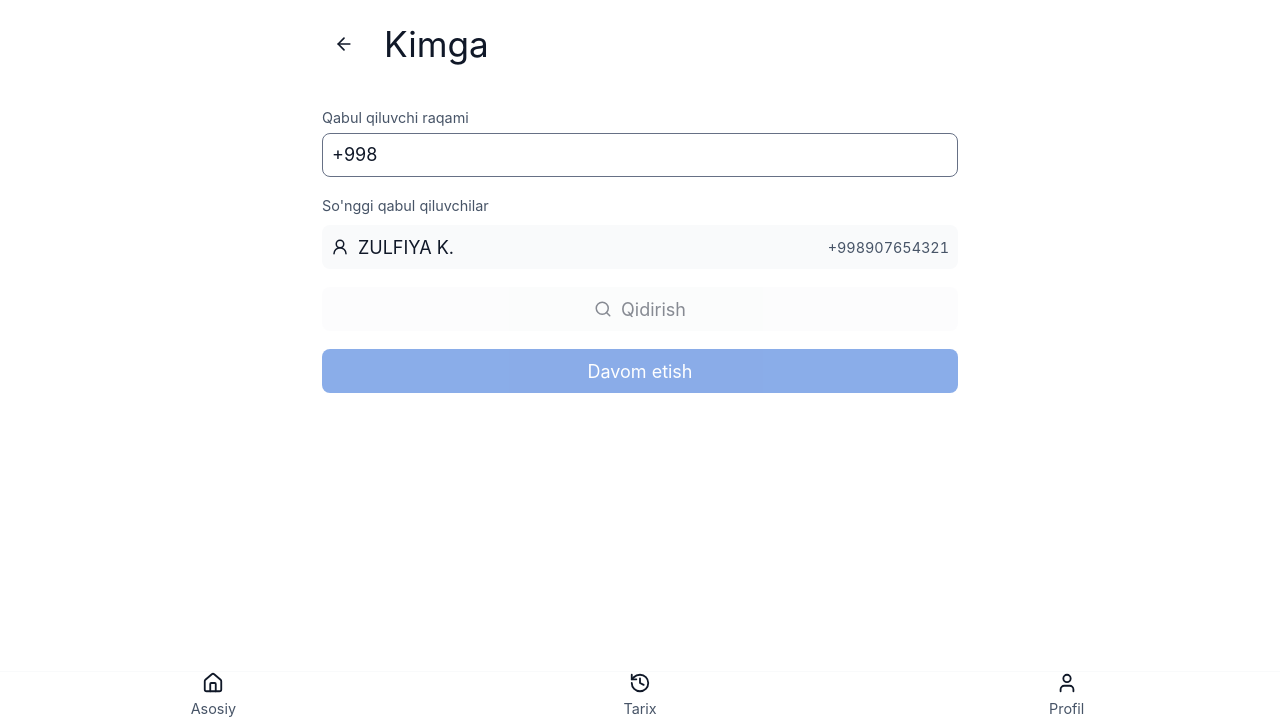
Test: step 1 — the quick pick › still looks the person up, rather than trusting a stored number
Click the button "ZULFIYA K. +998907654321".
click(406, 247)  # box [322,225,958,269]
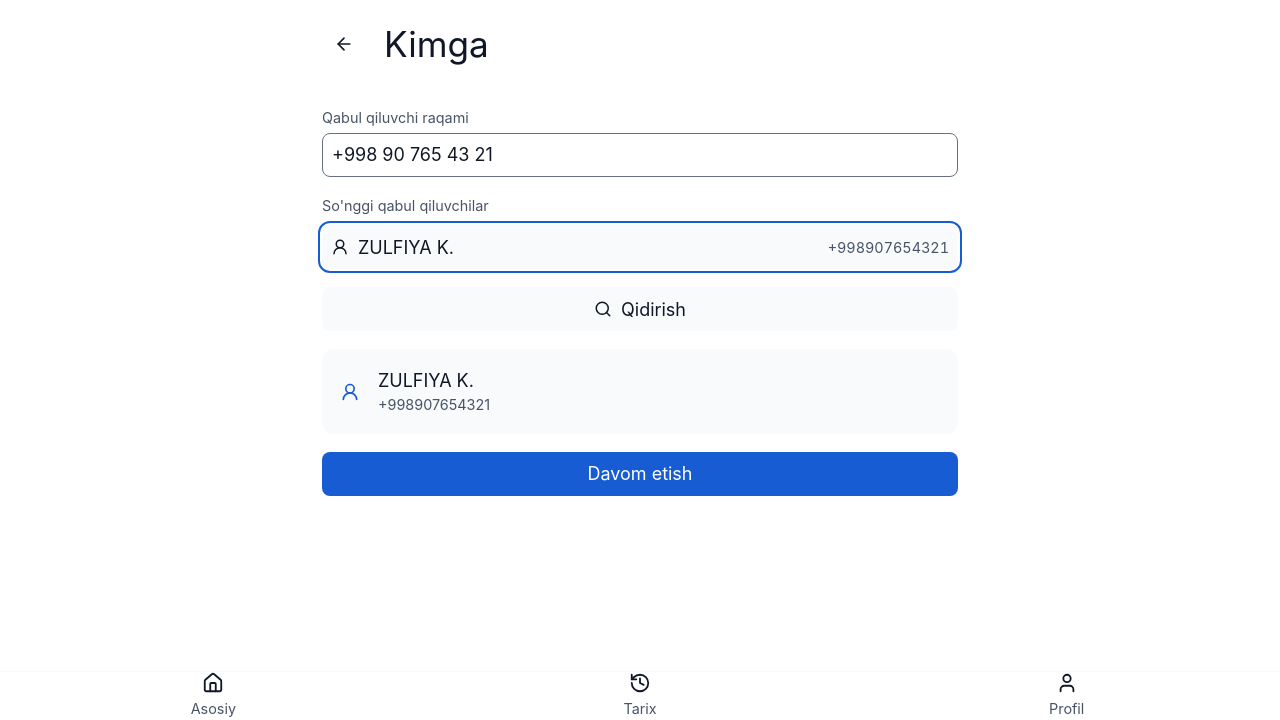
Now the field labelled "Qabul qiluvchi raqami" holds "+998 90 765 43 21", box [322,133,958,177]
# Reached the amount step without a keystroke, because the pick searched.
Click the button "Davom etish".
click(640, 474)  # box [322,452,958,496]
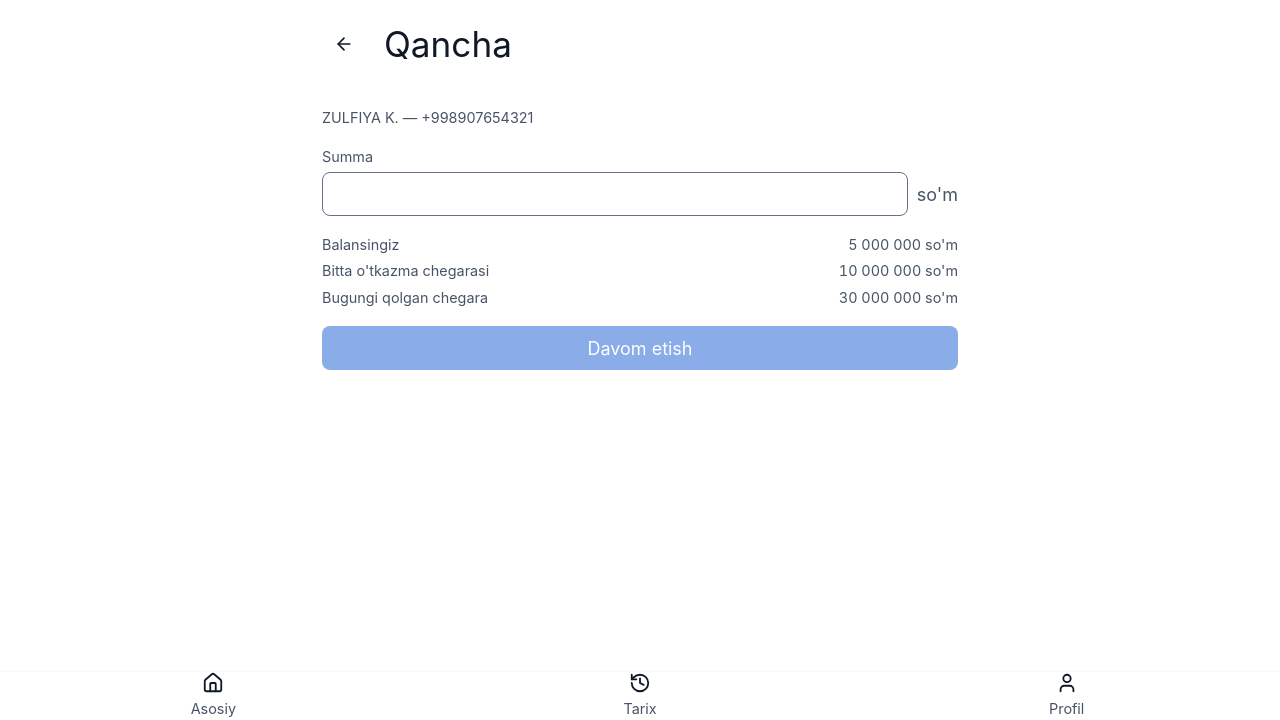
Now the heading "Qancha" is shown, box [384,18,512,71]
